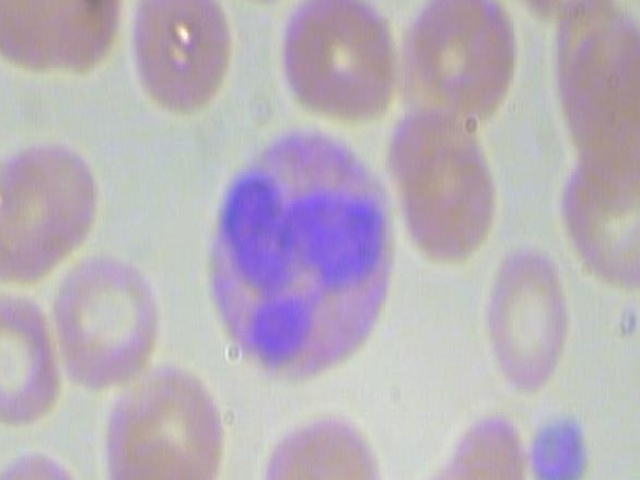Platelets: (518, 411, 600, 480)
RBC: (46, 240, 161, 394), (273, 0, 409, 128), (0, 133, 104, 295), (398, 0, 522, 134), (479, 240, 583, 398), (550, 137, 640, 297), (119, 0, 234, 116), (251, 396, 395, 480)
WBC: (194, 114, 400, 387)
